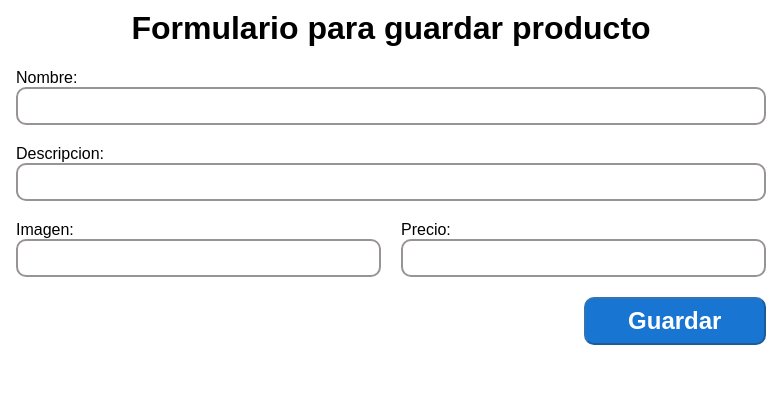
Test case: Home › should show error when occurs error on saving data product
Step 1. Type "lata de merluzo" into the field labelled "Nombre:" → (391, 106), box top-left (16, 87), bottom-right (766, 125)
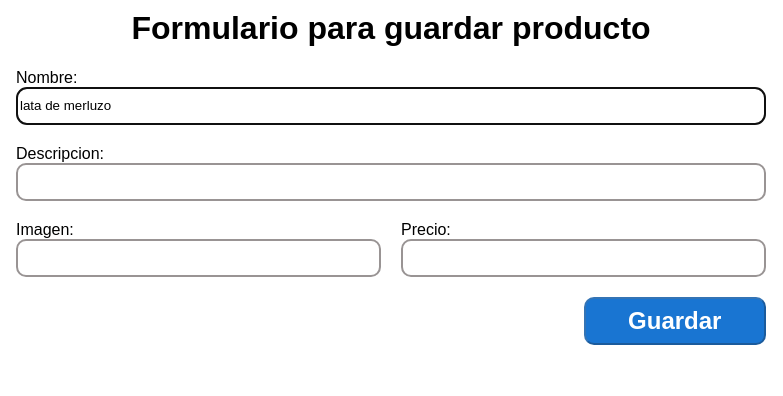
Step 2. Type "descripcion" into the field labelled "Descripcion:" → (391, 182), box top-left (16, 163), bottom-right (766, 201)
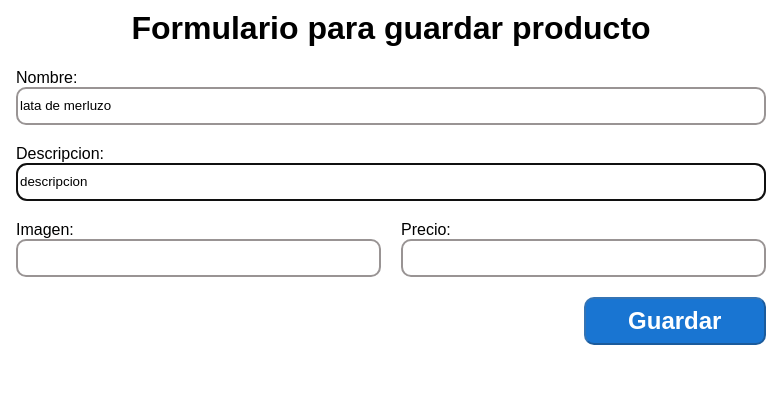
Step 3. Type "www.lider.cl/catalogo/images/whiteLineIcon.svg" into the field labelled "Imagen:" → (198, 258), box top-left (16, 239), bottom-right (381, 277)
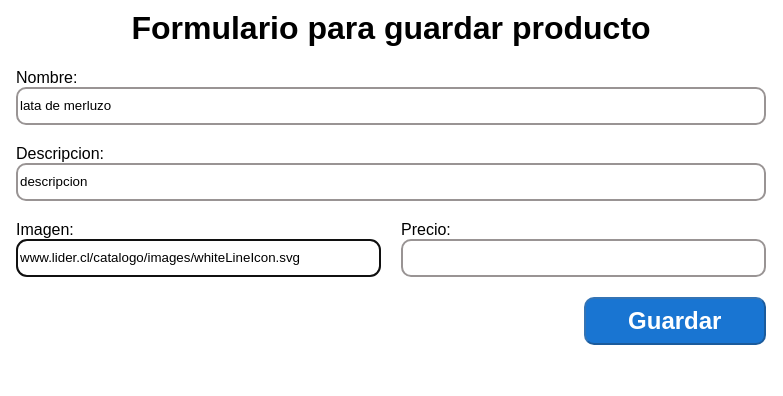
Step 4. Type "1111" into the field labelled "Precio:" → (584, 258), box top-left (401, 239), bottom-right (766, 277)
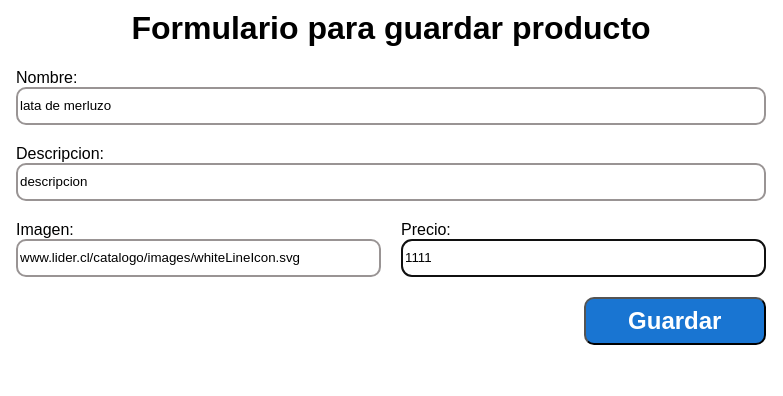
Step 5. Click the button "Guardar" → (675, 321), box top-left (584, 297), bottom-right (766, 345)
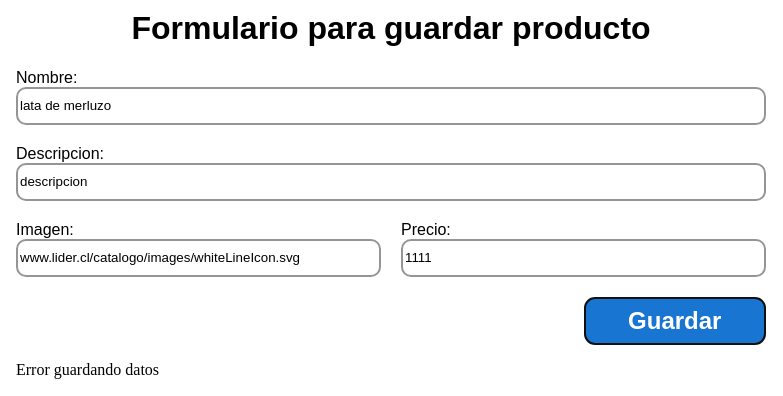
Result: the text "Error guardando datos" is shown at top-left (16, 361), bottom-right (159, 378)
